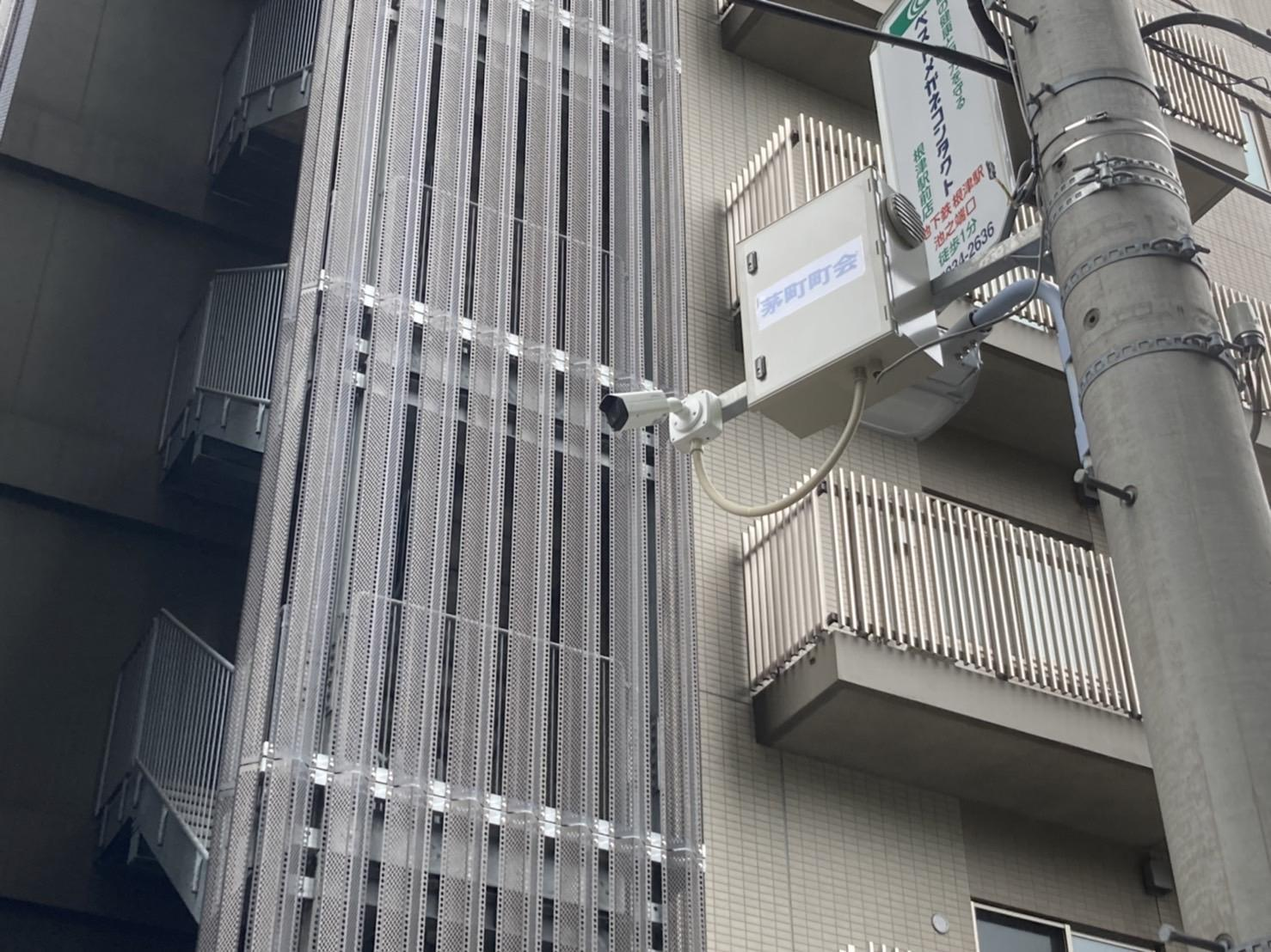tutu: (597, 380, 676, 436)
